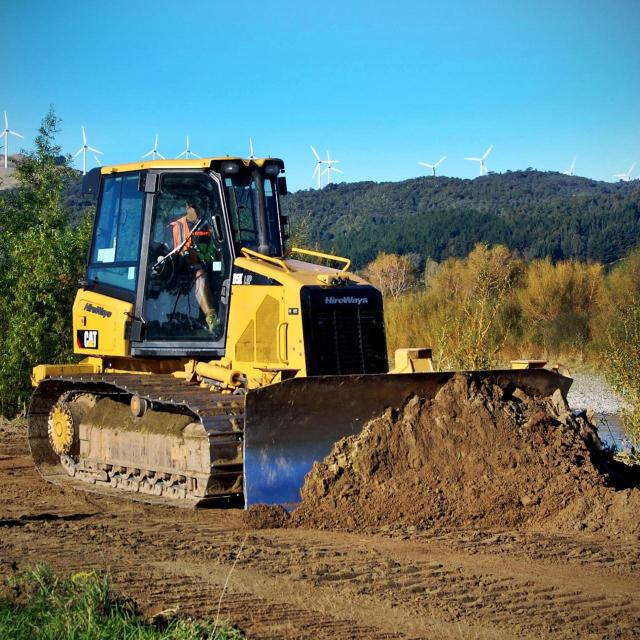buldozerpayloadergrader: (26, 139, 572, 536)
